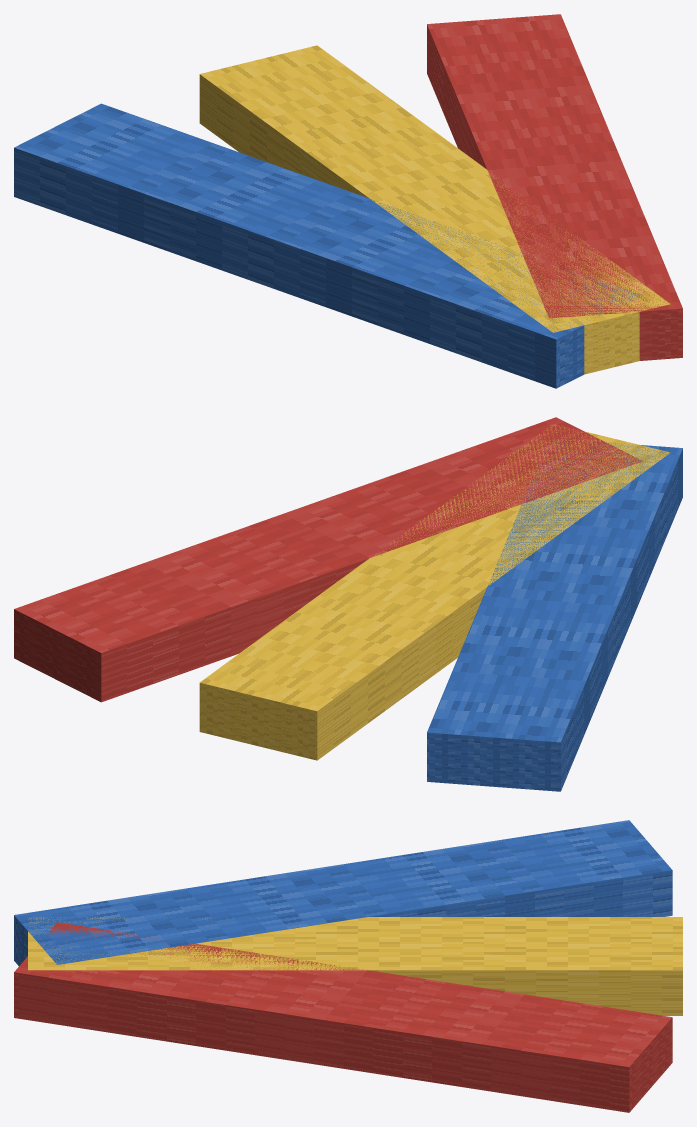
File: plumas_de_colores.glb
The picture shows the model from 3 angles, top to bottom: view 1: azimuth 30°, elevation 25°; view 2: azimuth 150°, elevation 25°; view 3: azimuth 270°, elevation 25°; orthographic projection. The views are drawn at different scales.
Visible parts, largest first — view 1: _MeshInstance3D_93, _MeshInstance3D_91, _MeshInstance3D_92; view 2: _MeshInstance3D_91, _MeshInstance3D_92, _MeshInstance3D_93; view 3: _MeshInstance3D_91, _MeshInstance3D_93, _MeshInstance3D_92.
Boxes of the visible parts, x1,y1,x2,y2 form: _MeshInstance3D_93: [14, 103, 642, 388]; _MeshInstance3D_91: [427, 14, 682, 360]; _MeshInstance3D_92: [199, 45, 670, 374]; _MeshInstance3D_91: [14, 417, 642, 702]; _MeshInstance3D_92: [199, 424, 670, 760]; _MeshInstance3D_93: [427, 440, 682, 791]; _MeshInstance3D_91: [14, 922, 672, 1112]; _MeshInstance3D_93: [14, 820, 672, 965]; _MeshInstance3D_92: [28, 917, 682, 1015].
Bounding box in the file's own units: 0.1161 × 0.01 × 0.1328.
Materials: 3 (3 with a texture image).
